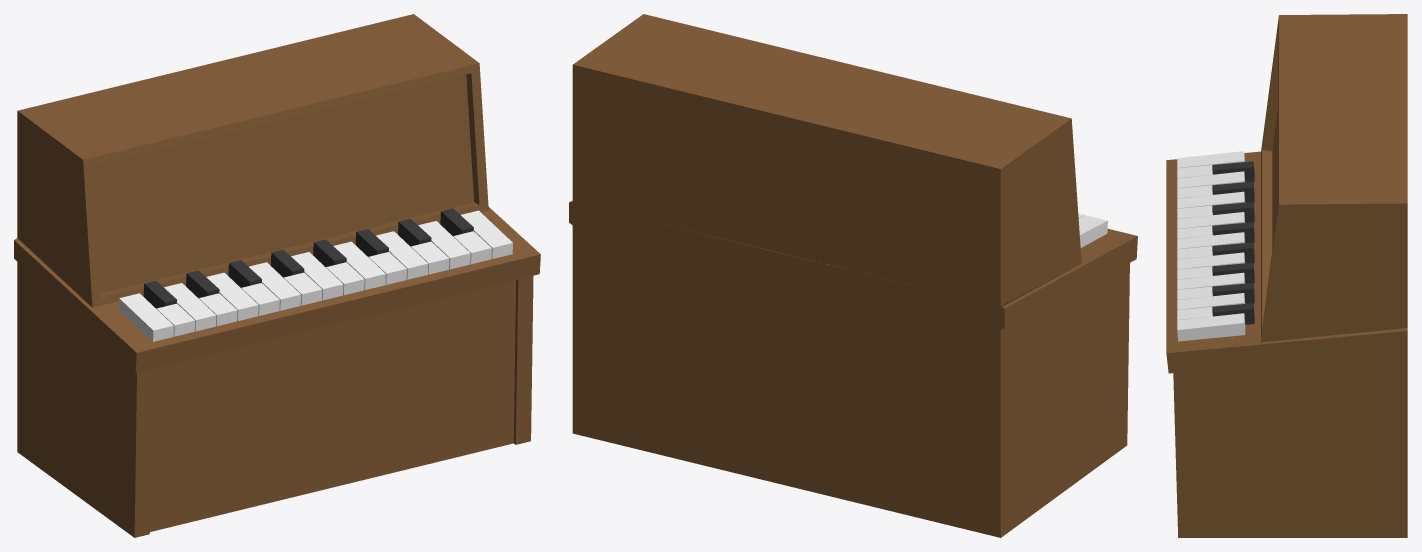
The model's file is piano.fbx.
The picture shows the model from 3 angles, left to right: view 1: azimuth 30°, elevation 25°; view 2: azimuth 150°, elevation 25°; view 3: azimuth 270°, elevation 25°; orthographic projection. The views are drawn at different scales.
Parts seen in each view (by area): view 1: piano; view 2: piano; view 3: piano.
Boxes of the visible parts, left/top/right/bottom form: piano: left=14, top=14, right=540, bottom=537; piano: left=569, top=14, right=1137, bottom=537; piano: left=1166, top=14, right=1407, bottom=537.
Size of the model in its own units: 4.85 by 3.91 by 2.56.
